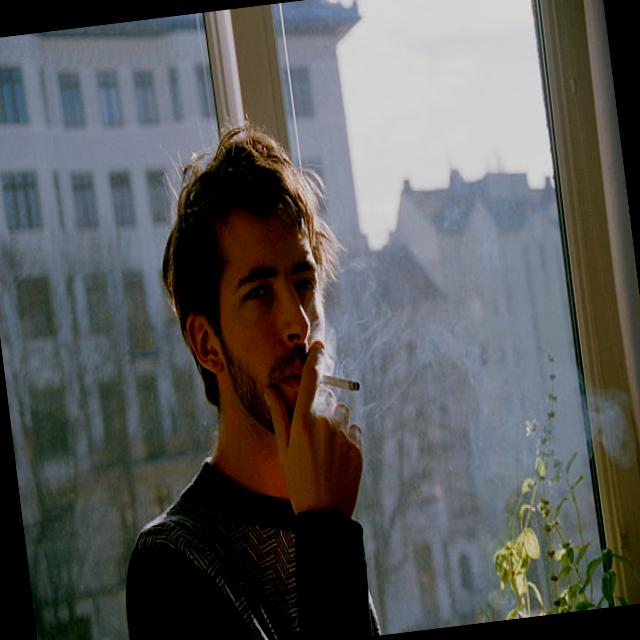cigarette: (310, 366, 362, 400)
